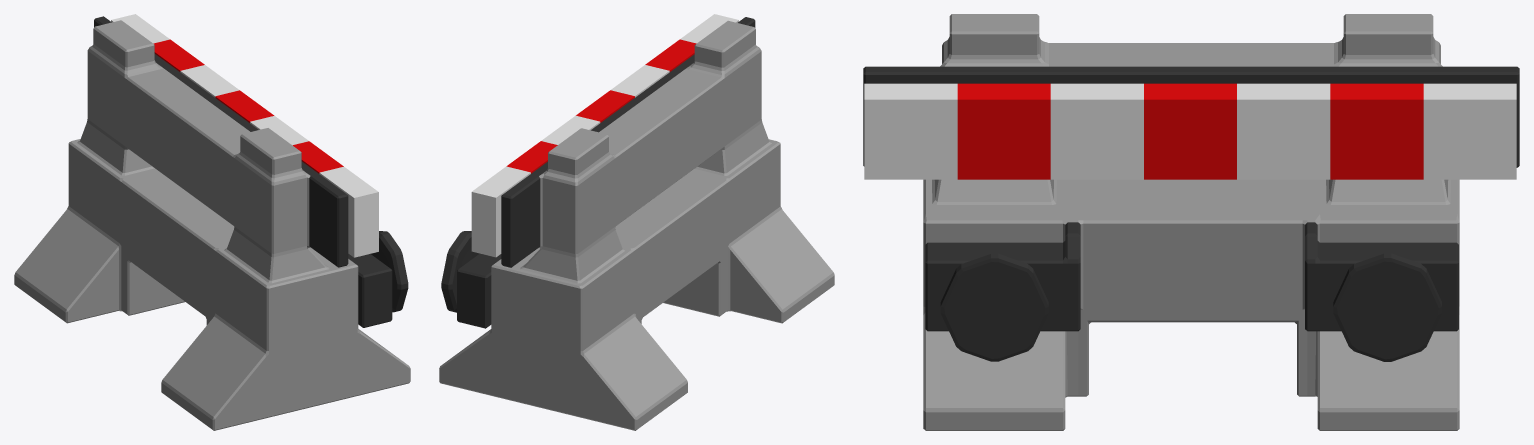
The model's file is bariyer.fbx.
The picture shows the model from 3 angles, left to right: view 1: azimuth 30°, elevation 25°; view 2: azimuth 150°, elevation 25°; view 3: azimuth 270°, elevation 25°; orthographic projection. The views are drawn at different scales.
Visible parts, largest first — view 1: Cube, Cube.005, Cube.004, Cube.001, Cube.002, Cube.003; view 2: Cube, Cube.005, Cube.004, Cube.001, Cube.002, Cube.003; view 3: Cube.001, Cube, Cube.003, Cube.004, Cube.005, Cube.002.
Boxes of the visible parts, left/top/right/bottom form: Cube: left=14, top=139, right=410, bottom=430; Cube.005: left=77, top=20, right=329, bottom=283; Cube.004: left=126, top=175, right=234, bottom=315; Cube.001: left=111, top=14, right=378, bottom=257; Cube.002: left=94, top=16, right=348, bottom=267; Cube.003: left=348, top=231, right=408, bottom=327; Cube: left=439, top=139, right=834, bottom=430; Cube.005: left=520, top=20, right=771, bottom=283; Cube.004: left=615, top=176, right=722, bottom=316; Cube.001: left=471, top=14, right=738, bottom=257; Cube.002: left=501, top=17, right=755, bottom=267; Cube.003: left=441, top=231, right=501, bottom=328; Cube.001: left=864, top=83, right=1516, bottom=179; Cube: left=923, top=179, right=1459, bottom=430; Cube.003: left=925, top=222, right=1458, bottom=361; Cube.004: left=1083, top=179, right=1302, bottom=322; Cube.005: left=932, top=14, right=1450, bottom=204; Cube.002: left=863, top=66, right=1519, bottom=167.
Size of the model in its own units: 74.62 by 88.16 by 157.
